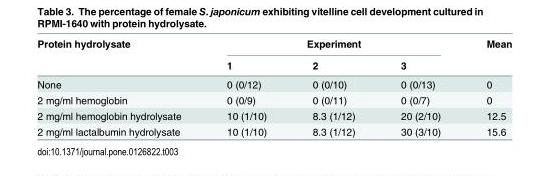table: (36, 37, 511, 136)
table column: (36, 37, 203, 136), (288, 37, 377, 136), (203, 37, 288, 136), (377, 37, 462, 136), (462, 37, 511, 136)
table column header: (36, 37, 511, 74)
table row: (36, 53, 511, 74), (36, 74, 511, 91), (36, 37, 511, 53), (36, 91, 511, 107), (36, 107, 511, 123), (36, 123, 511, 136)
table spanning cell: (36, 37, 203, 74), (203, 37, 462, 53), (462, 37, 511, 74)
